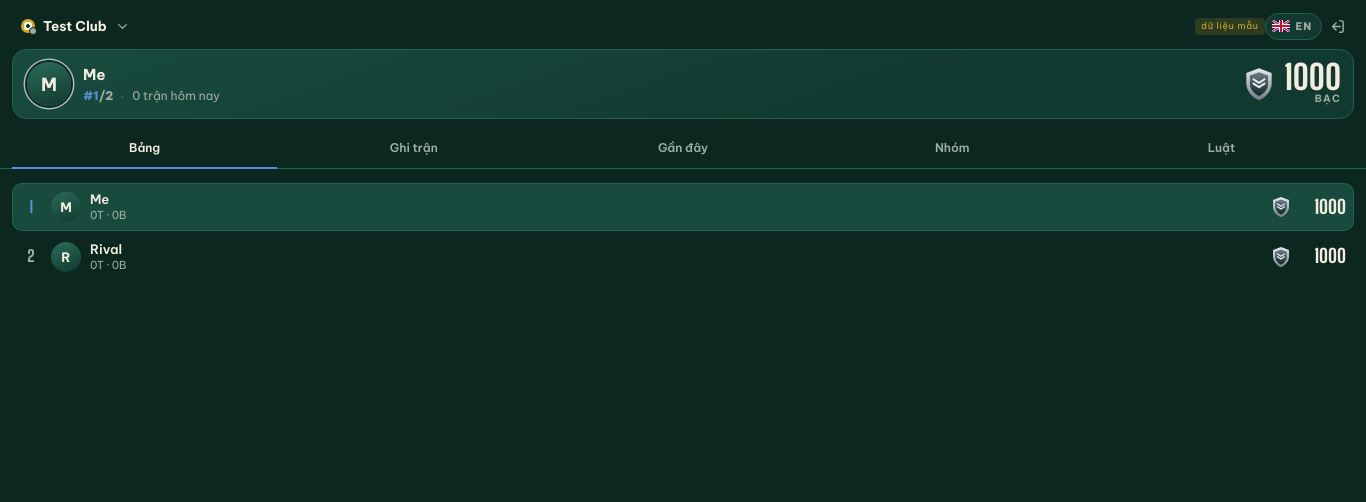
Test: app shell › the rules tab shows the limits the server sent
This screenshot has width=1366, height=502.
Expected: the button "Test Club" is shown, x1=43 y1=17 x2=107 y2=36
Click the tab "Luật" at x=1221, y=150, box x1=1089 y1=132 x2=1354 y2=169
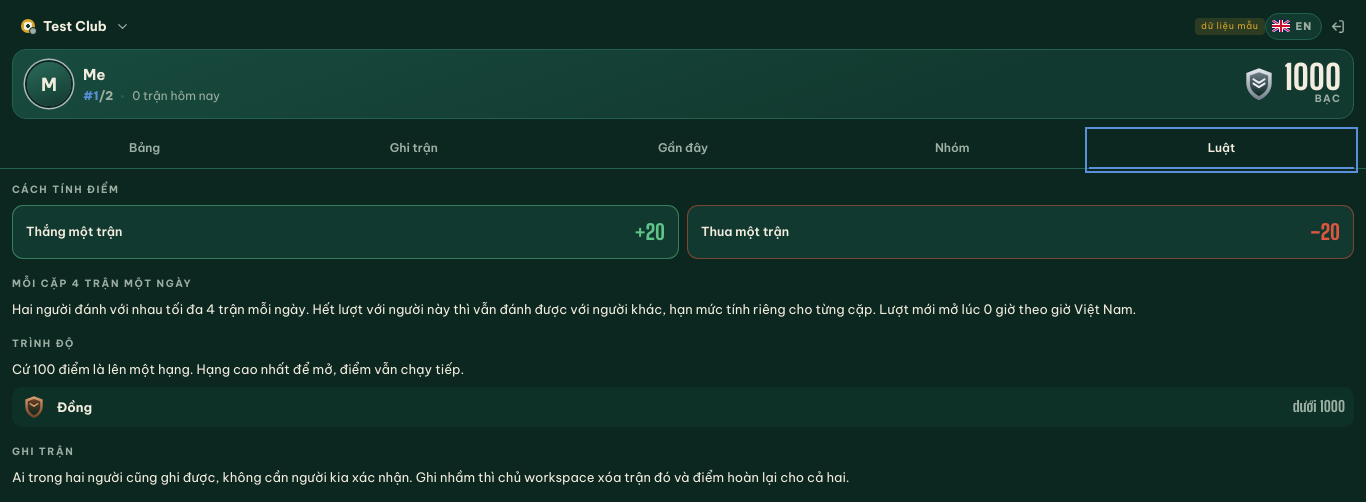
Result: the heading "Mỗi cặp 4 trận một ngày" is shown at x1=12 y1=277 x2=192 y2=290
